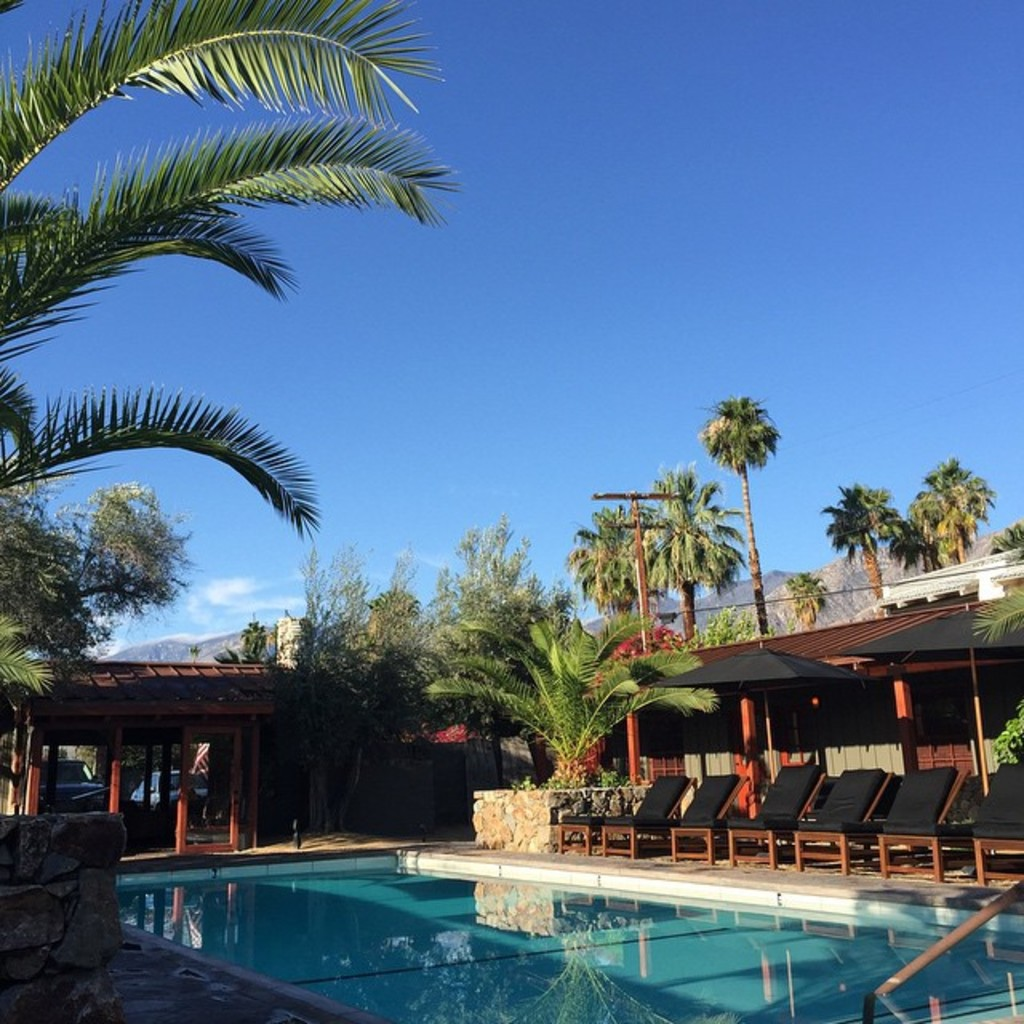Tree: (214, 390, 1023, 778)
